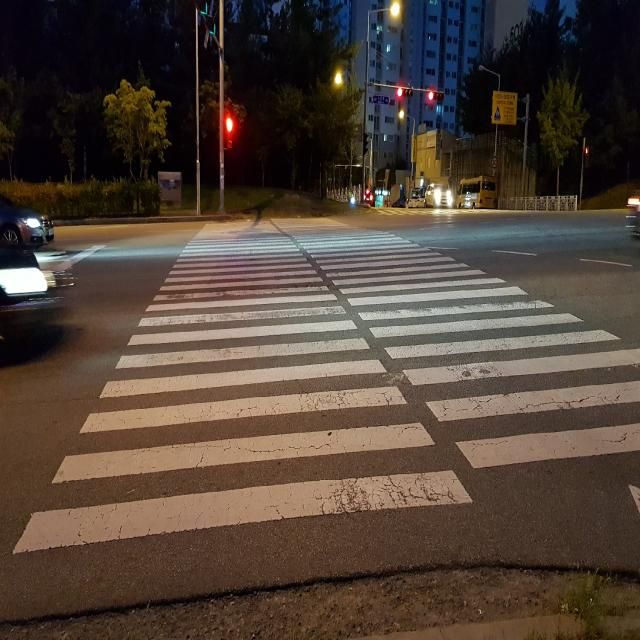빨간불: (221, 117, 239, 148)
횡단보도: (11, 214, 640, 560)
